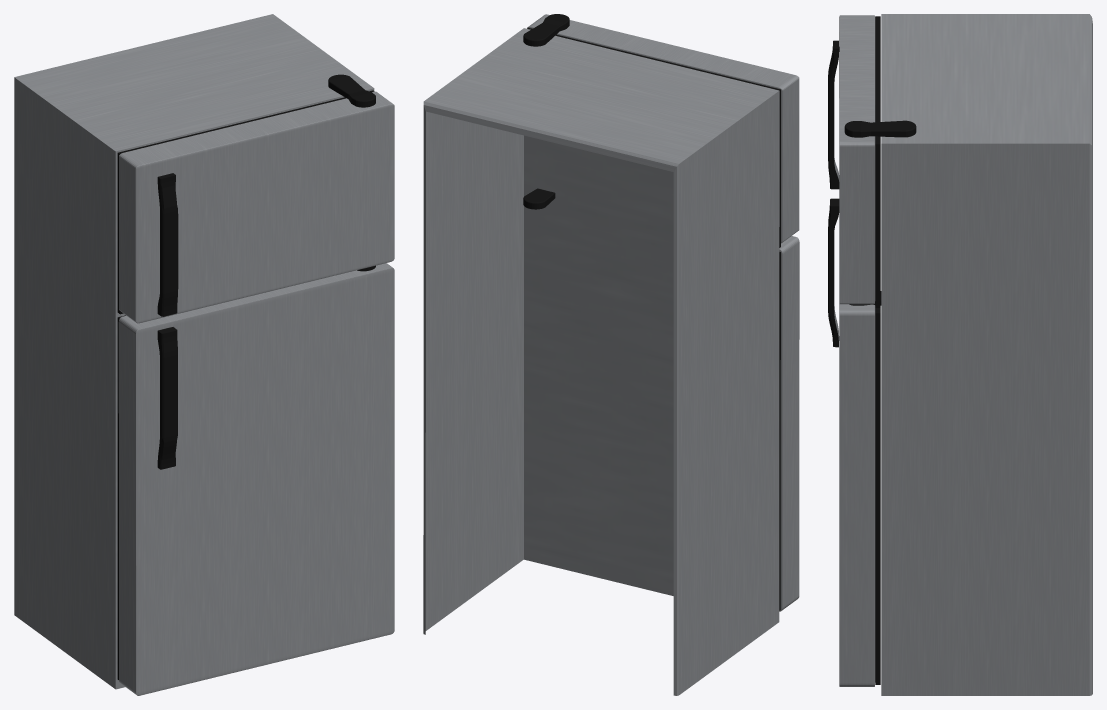
The model's file is Kühlschrank.fbx.
The picture shows the model from 3 angles, left to right: view 1: azimuth 30°, elevation 25°; view 2: azimuth 150°, elevation 25°; view 3: azimuth 270°, elevation 25°; orthographic projection. The views are drawn at different scales.
Parts seen in each view (by area): view 1: Material-material; view 2: Material-material; view 3: Material-material.
Part boxes in pixels (x1,y1,x2,y2): Material-material: (14, 14, 394, 695); Material-material: (423, 14, 799, 695); Material-material: (828, 14, 1092, 695).
Bounding box in the file's own units: 396 × 795 × 342.
1 material, 1 textured.
